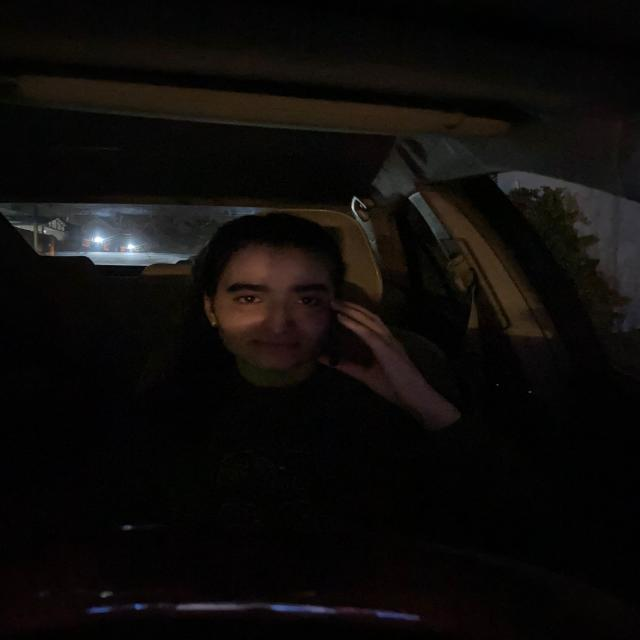mobile: (331, 296, 388, 385)
person: (198, 213, 342, 385)
